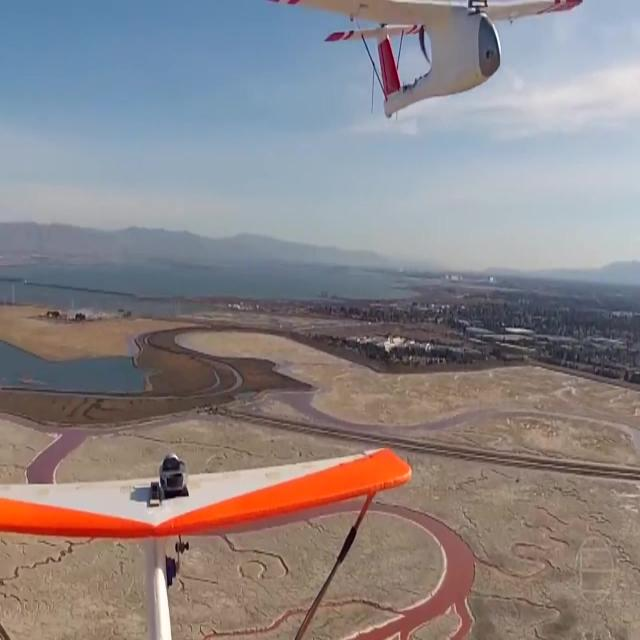iha: (265, 32, 586, 90)
